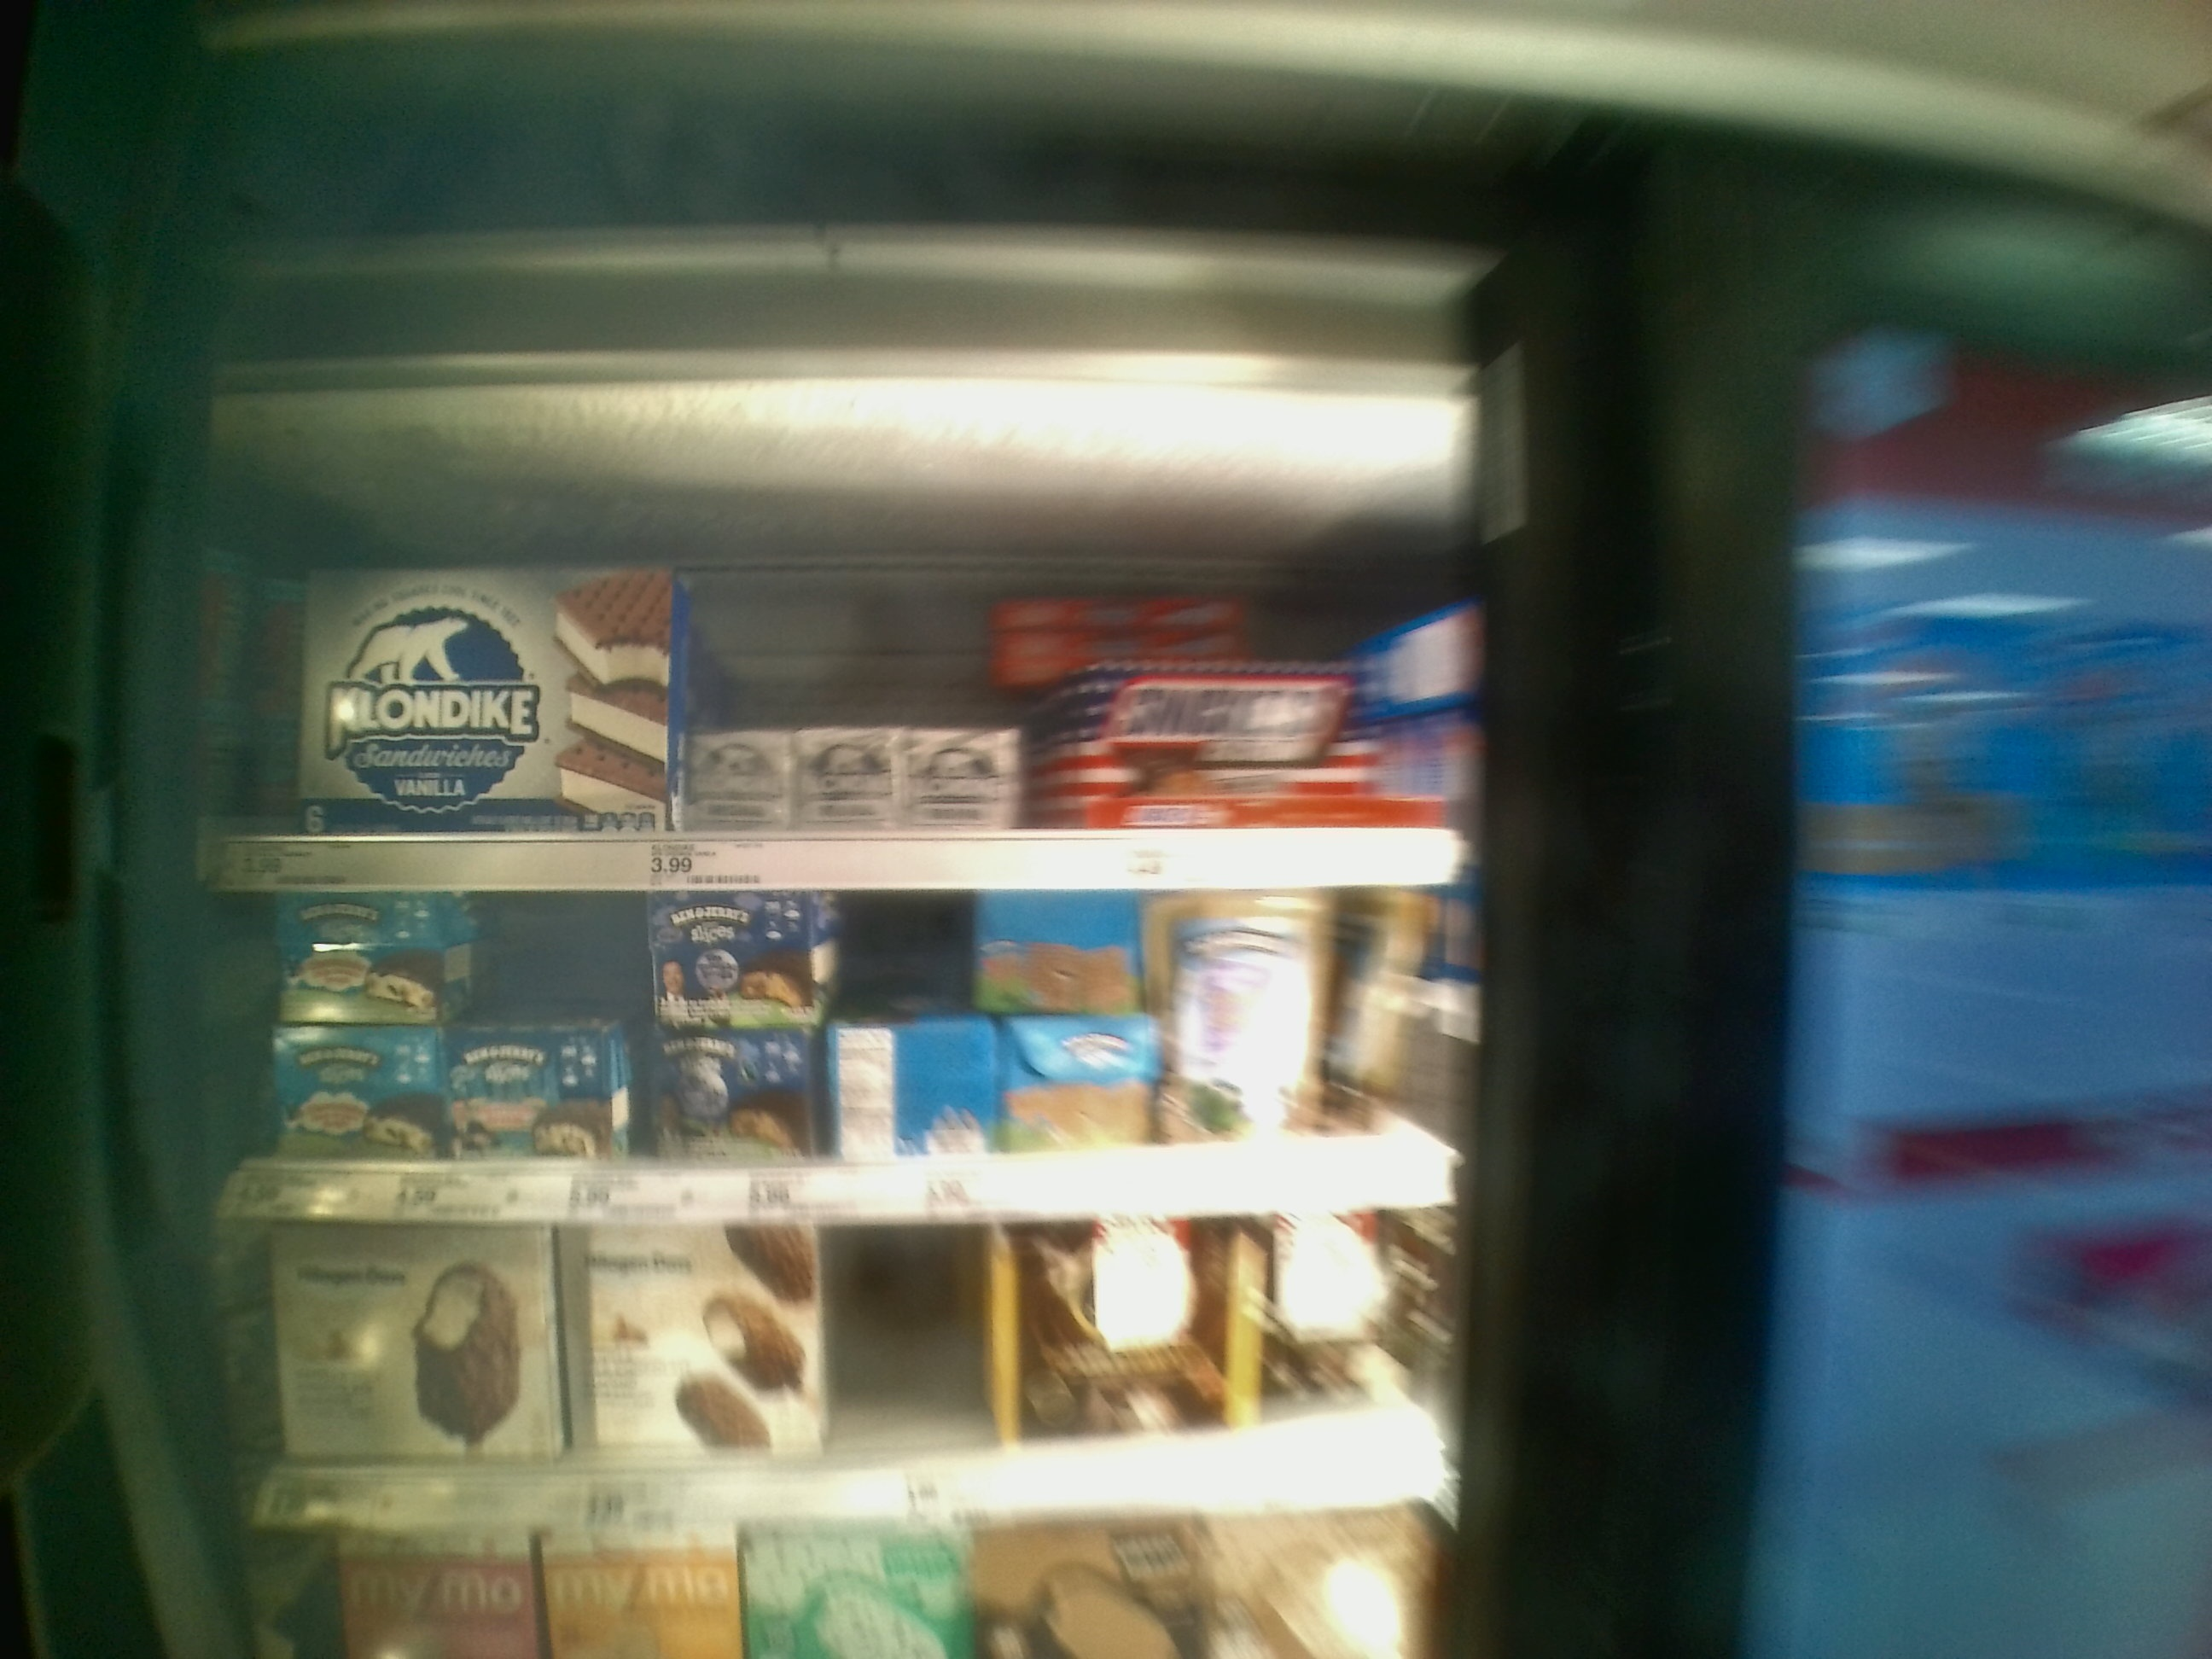ice-cream-shelf: (209, 392, 1463, 882), (206, 884, 1474, 1218), (204, 1220, 1460, 1507)
